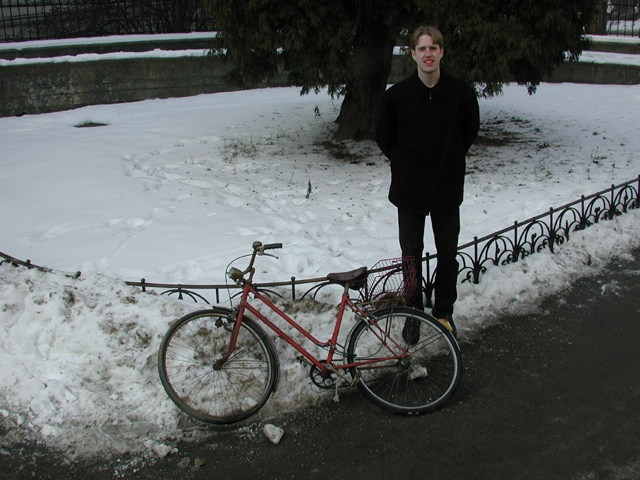person: (376, 25, 465, 342)
